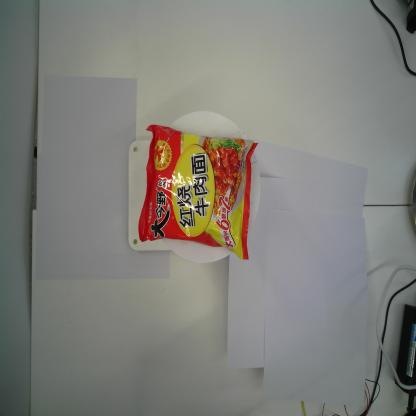Instant Noodles: (137, 124, 259, 261)
